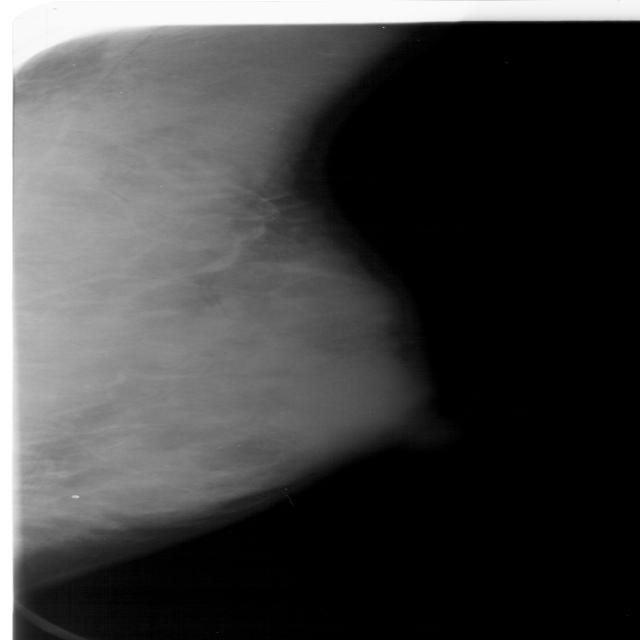normal: (0, 0, 482, 574)
